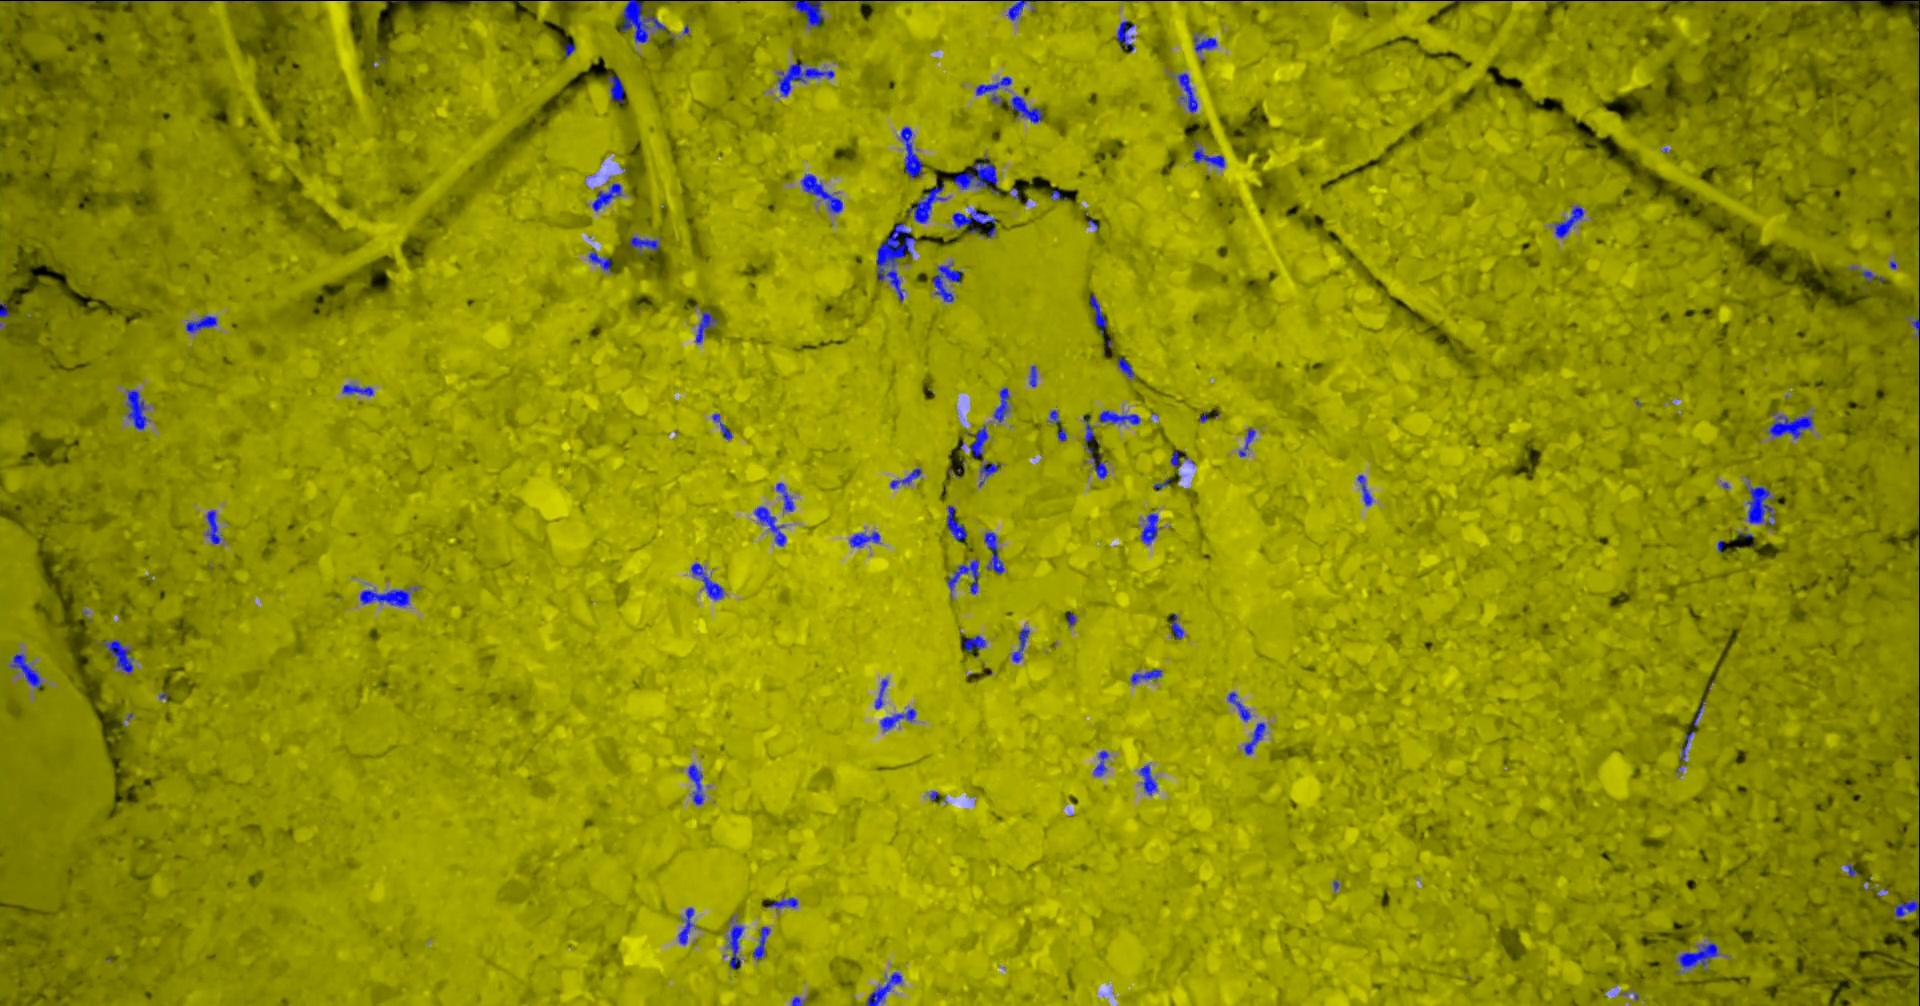ant: (620, 0, 665, 42), (777, 62, 834, 95), (905, 179, 946, 224), (952, 158, 1002, 193), (800, 173, 842, 212), (1082, 417, 1107, 478), (1745, 481, 1775, 525), (952, 208, 996, 238), (690, 561, 723, 600), (946, 559, 978, 598), (754, 506, 785, 546), (866, 970, 902, 1005), (931, 263, 963, 301), (1677, 942, 1718, 970), (900, 126, 922, 178), (9, 653, 41, 687), (102, 639, 132, 673), (1768, 415, 1812, 438), (1554, 205, 1583, 238), (126, 389, 149, 431), (787, 0, 823, 27), (975, 76, 1011, 103), (1010, 95, 1043, 123), (359, 588, 409, 606), (983, 531, 1003, 574), (590, 183, 621, 211), (1176, 72, 1197, 112), (879, 708, 916, 730), (1192, 141, 1224, 166), (728, 917, 743, 969), (695, 309, 717, 343), (1225, 691, 1251, 721), (1243, 721, 1265, 754), (946, 506, 966, 540), (968, 426, 988, 459), (687, 763, 703, 804), (1090, 293, 1106, 333), (889, 467, 921, 488), (1006, 0, 1036, 20), (1011, 627, 1029, 662), (752, 926, 770, 959), (1098, 410, 1139, 424), (204, 511, 222, 542), (1138, 763, 1156, 795), (678, 907, 693, 944), (775, 481, 794, 511), (993, 387, 1010, 420), (629, 236, 659, 254), (711, 413, 731, 439), (185, 315, 217, 332), (587, 250, 611, 272), (1116, 20, 1133, 51), (1140, 513, 1157, 544), (1356, 474, 1371, 506), (1893, 898, 1919, 917), (1238, 427, 1255, 456), (850, 531, 879, 547), (1130, 668, 1161, 683), (1679, 730, 1694, 760), (607, 75, 623, 102), (874, 678, 888, 708), (762, 897, 797, 908), (342, 384, 373, 396), (1093, 749, 1109, 775), (979, 459, 1001, 476), (963, 635, 985, 652), (1192, 36, 1217, 51), (1170, 614, 1183, 639), (1117, 357, 1134, 377), (1860, 271, 1884, 283), (1170, 450, 1187, 466), (563, 42, 575, 56), (1029, 365, 1036, 386), (1048, 409, 1059, 423), (0, 302, 9, 318), (63, 0, 145, 1)
